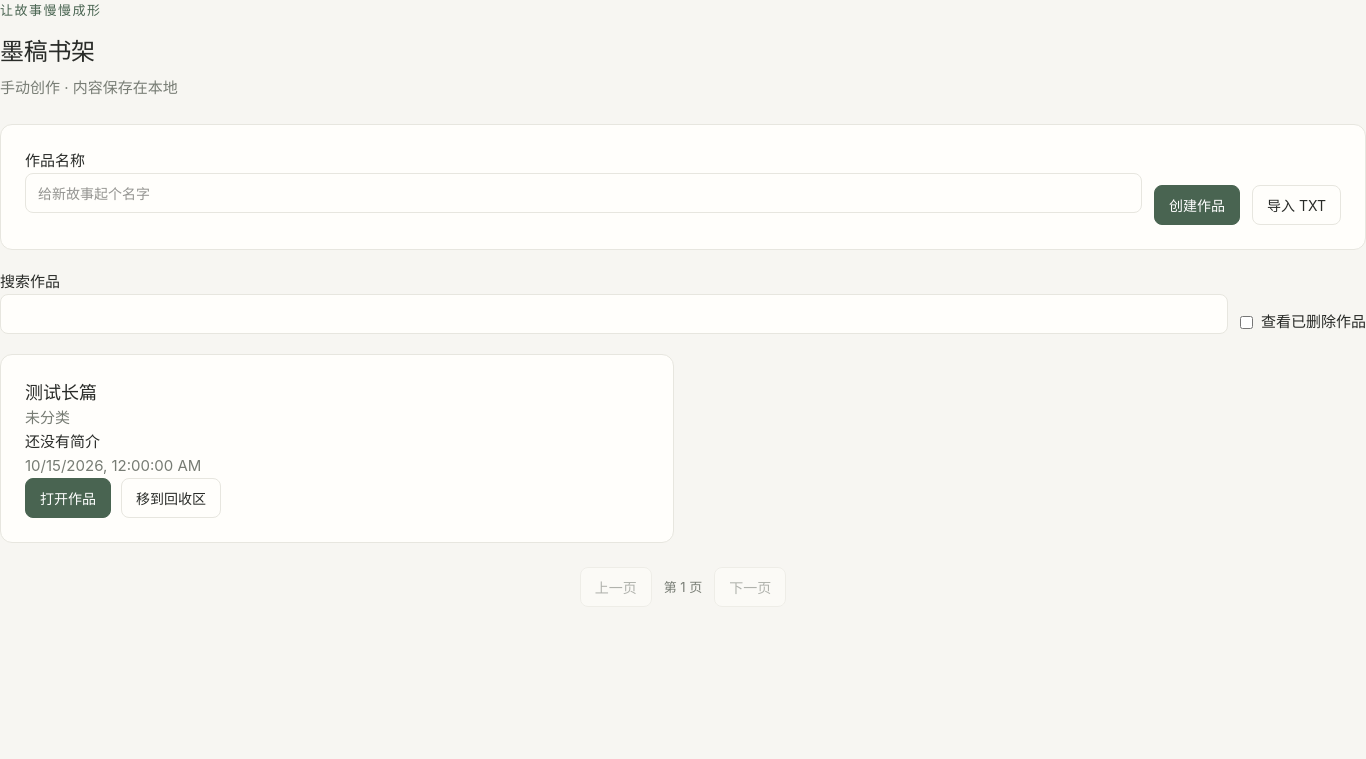
Scenario: 发现恢复稿先要求选择处理方式，未确认时不写正文或覆盖恢复稿
Click the button "打开作品".
click(68, 498)  # box [25, 478, 111, 518]
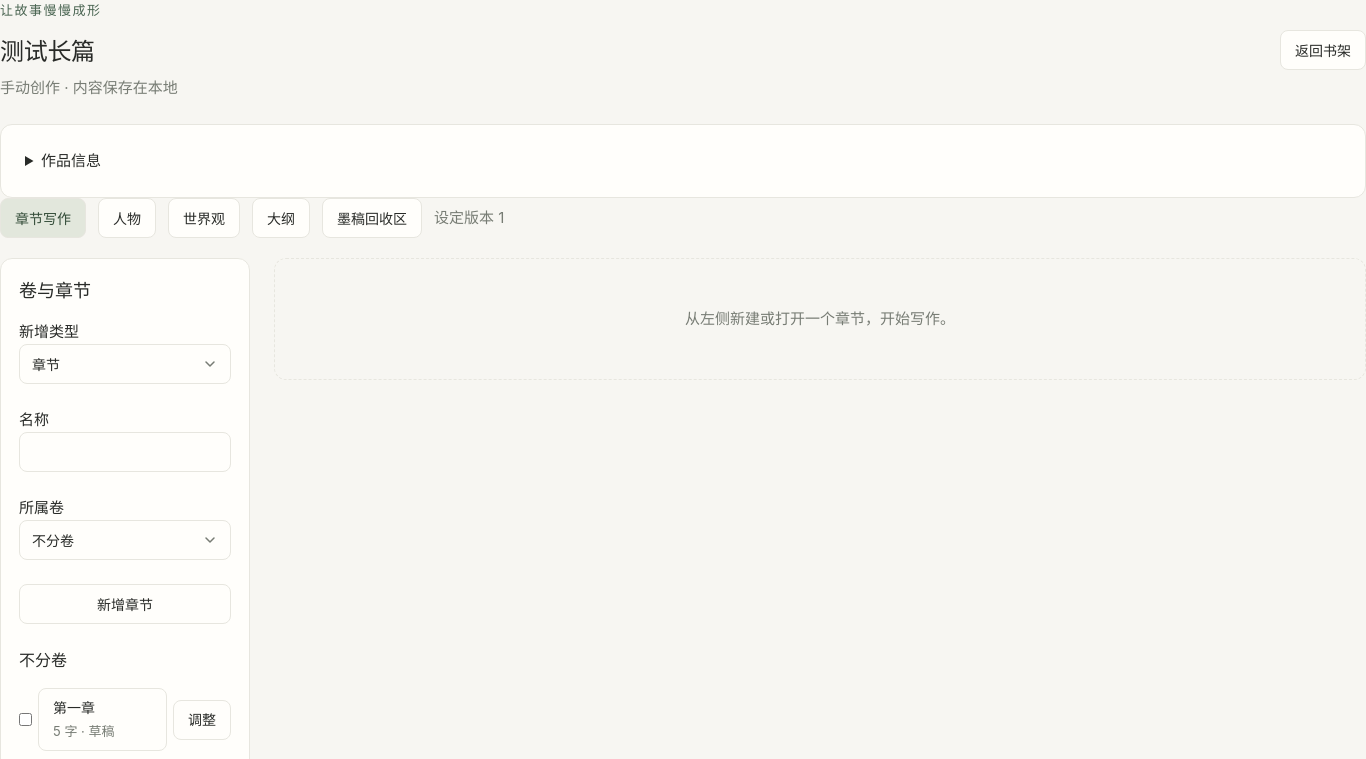
Click the button "第一章 5 字 · 草稿".
click(102, 720)  # box [38, 688, 167, 751]
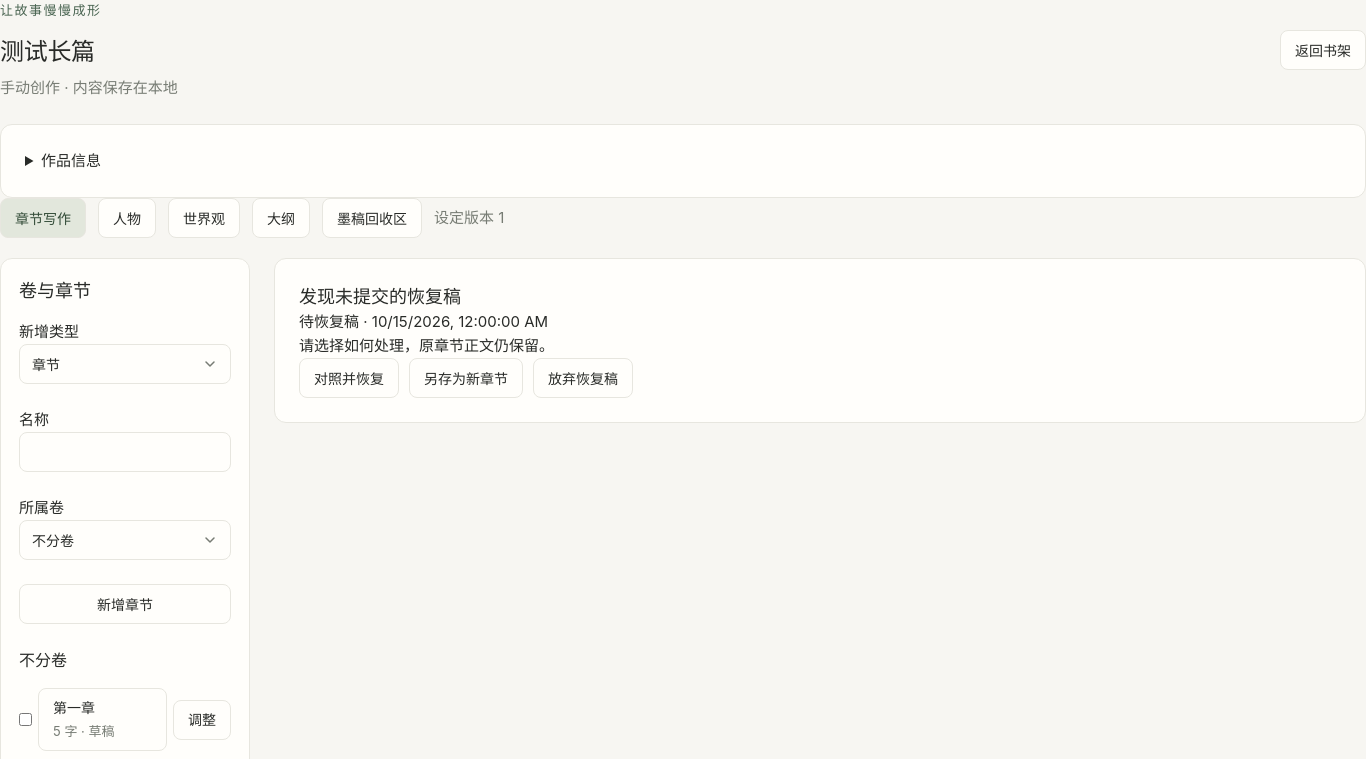
Check: the heading "发现未提交的恢复稿" is shown, box [299, 286, 461, 307]
Click the button "对照并恢复".
click(349, 378)  # box [299, 358, 399, 398]
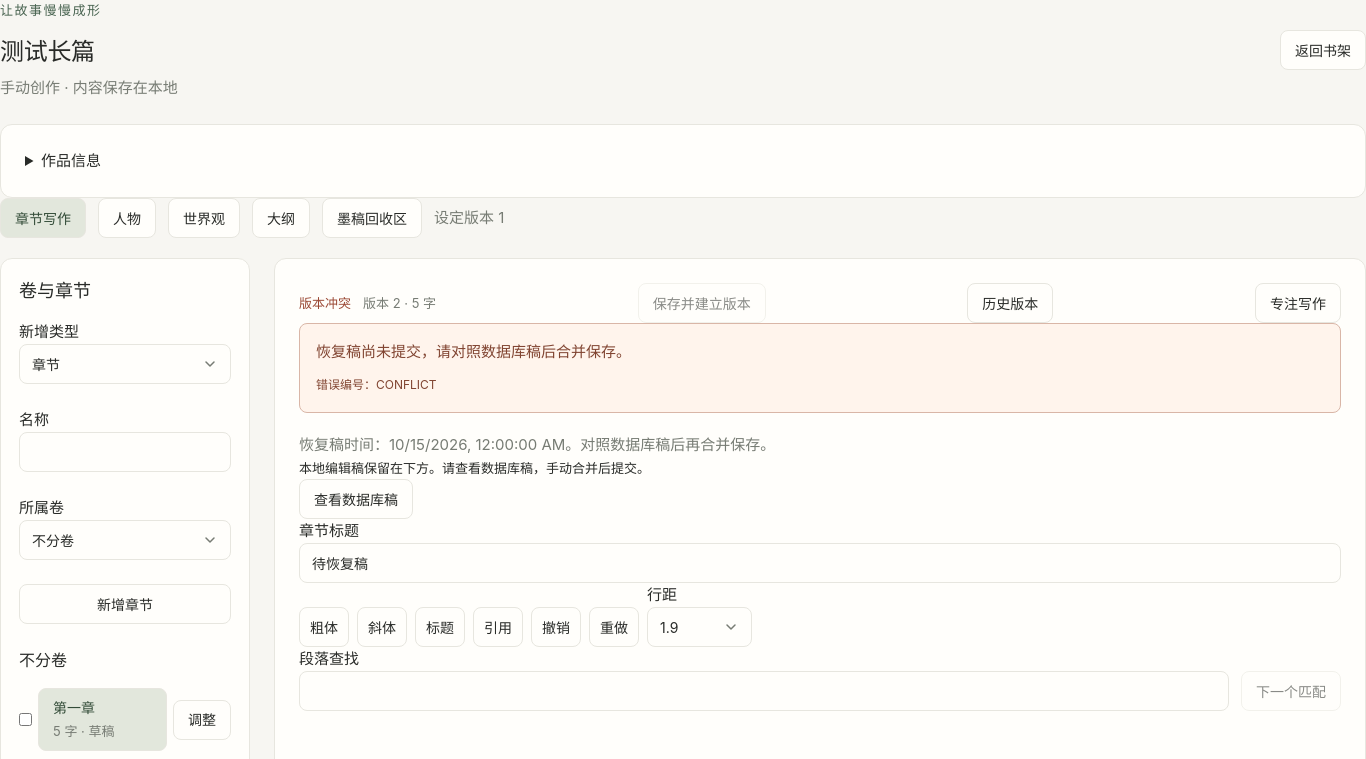
Check: the text "本地编辑稿保留在下方。请查看数据库稿，手动合并后提交。" is shown, box [299, 460, 650, 476]
Check: the field labelled "章节标题" holds "待恢复稿", box [299, 544, 1341, 584]
